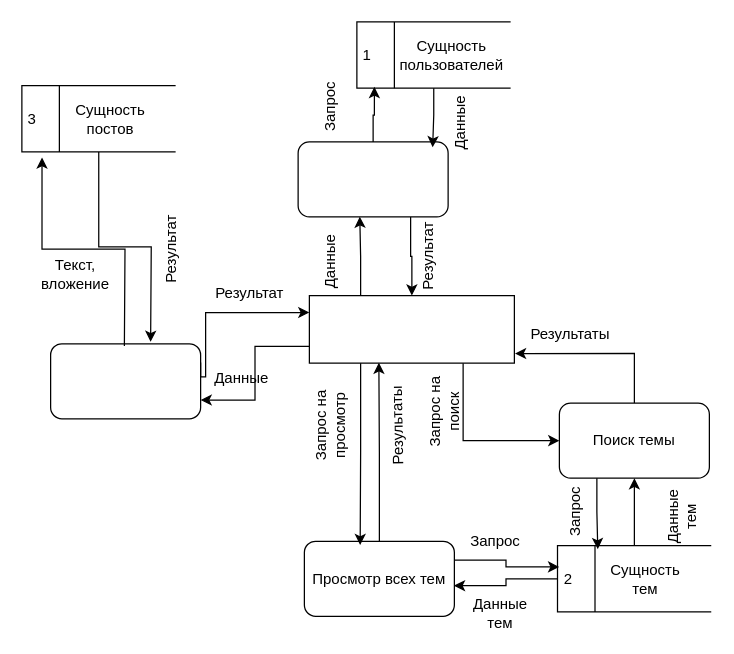
The diagram is 734 pixels wide and 654 high, and some of its shapes have lost their labels. The centre of each missing label's shape, as x and y in pixels:
Авторизация: the point at 372,179
Пользователь: the point at 411,328
Создание поста: the point at 125,380
